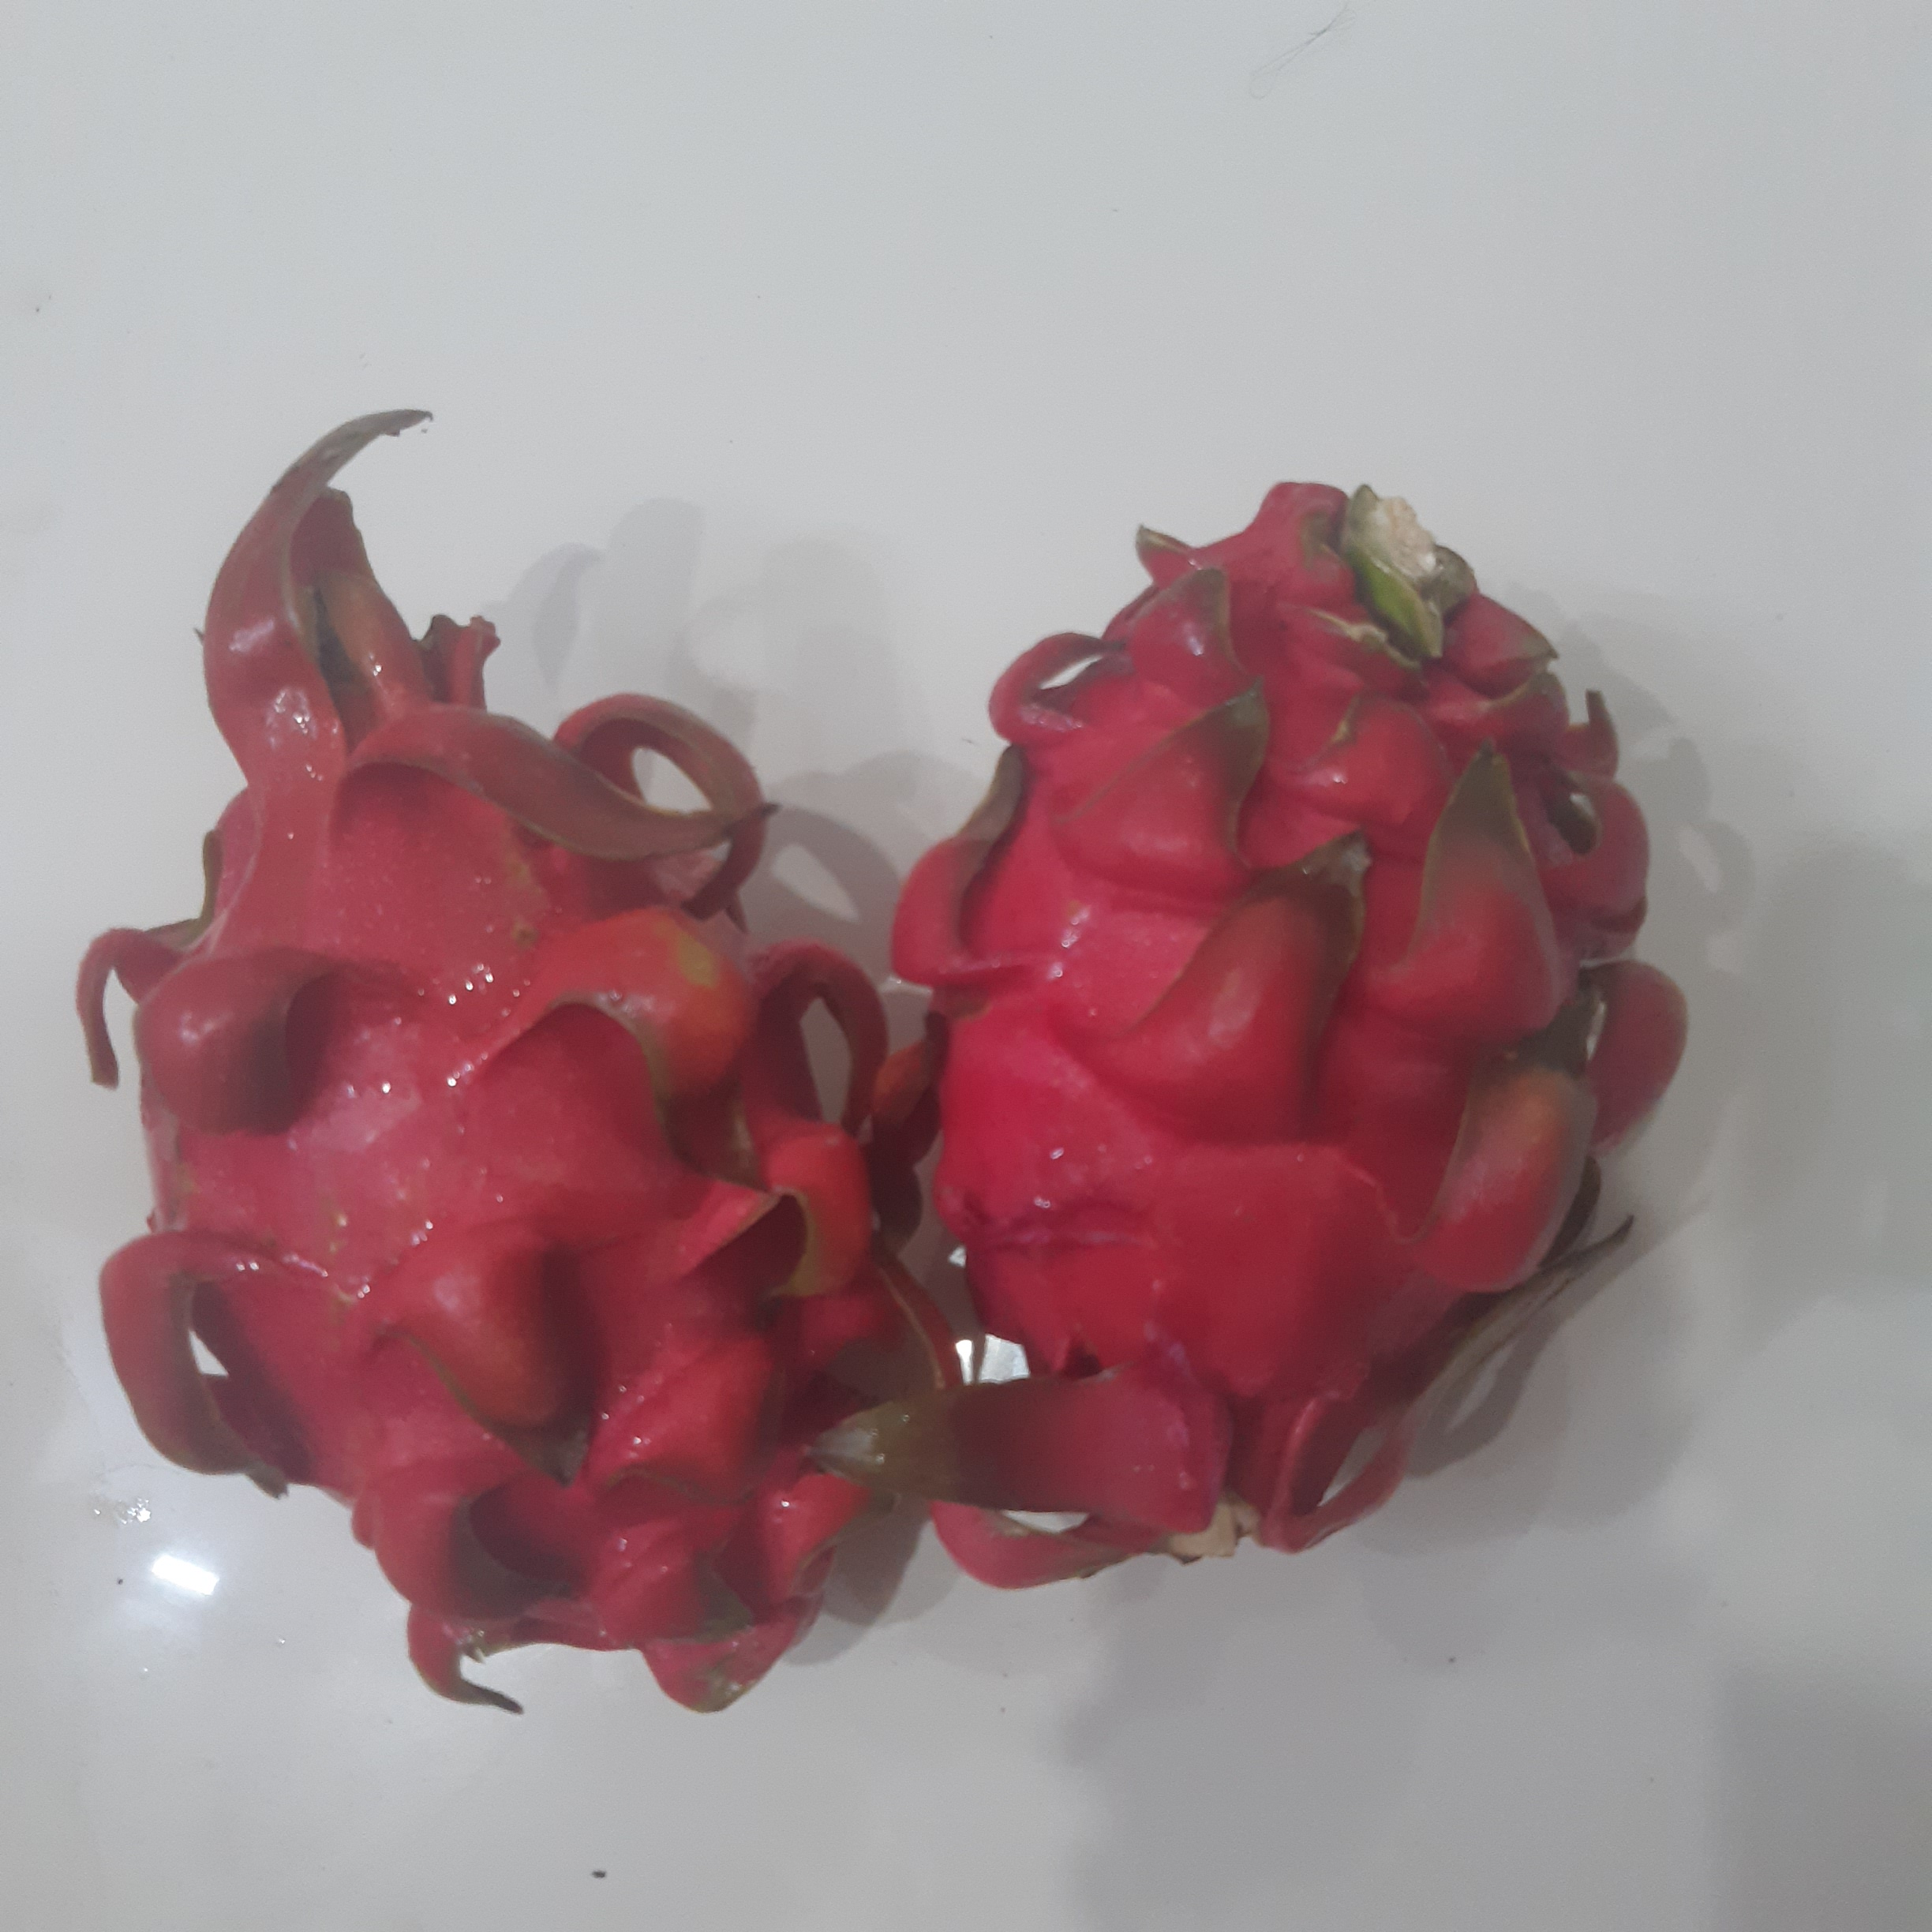Thanh long: (86, 565, 949, 1711), (924, 492, 1647, 1592)
